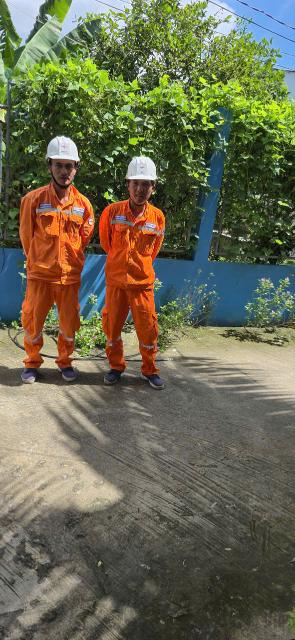helmet: (38, 130, 87, 164), (122, 153, 165, 185)
shoes: (58, 358, 83, 387), (141, 372, 169, 392), (101, 366, 128, 386), (18, 365, 42, 384)
